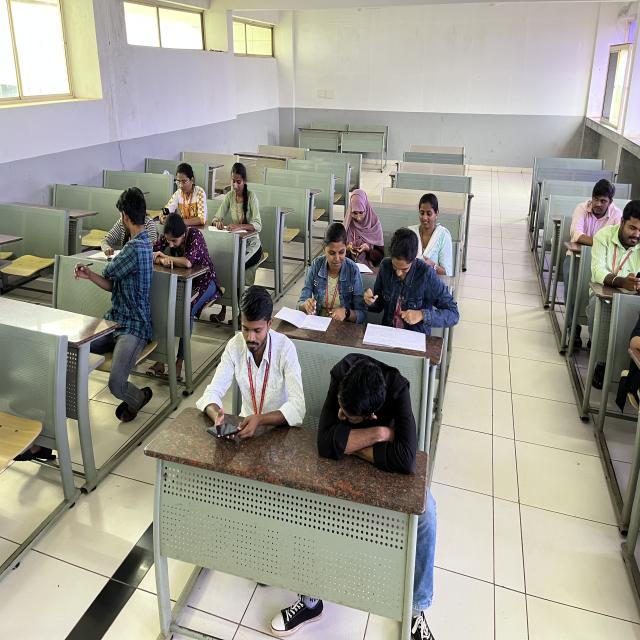Reading: (212, 154, 268, 258)
Sleeping: (310, 337, 432, 522), (153, 214, 220, 283)
Using Phone: (194, 282, 303, 462), (583, 201, 640, 297), (153, 148, 212, 226), (342, 186, 389, 263)
Writing: (364, 222, 464, 344), (300, 208, 368, 328)
